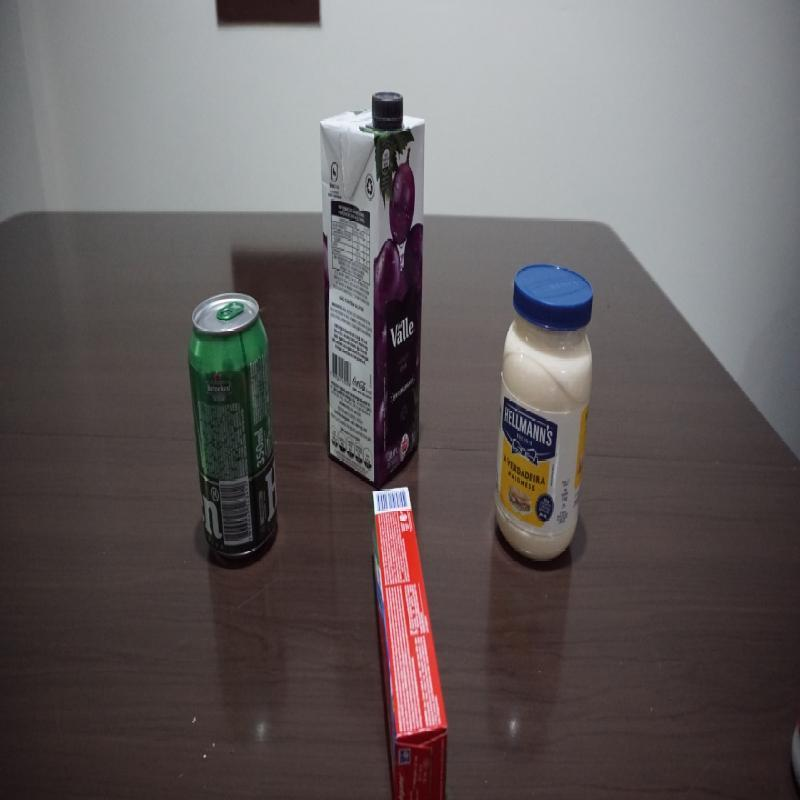Beer can: (187, 286, 284, 565)
Mayonnaise: (493, 263, 596, 564)
Toothpaste: (368, 487, 454, 795)
